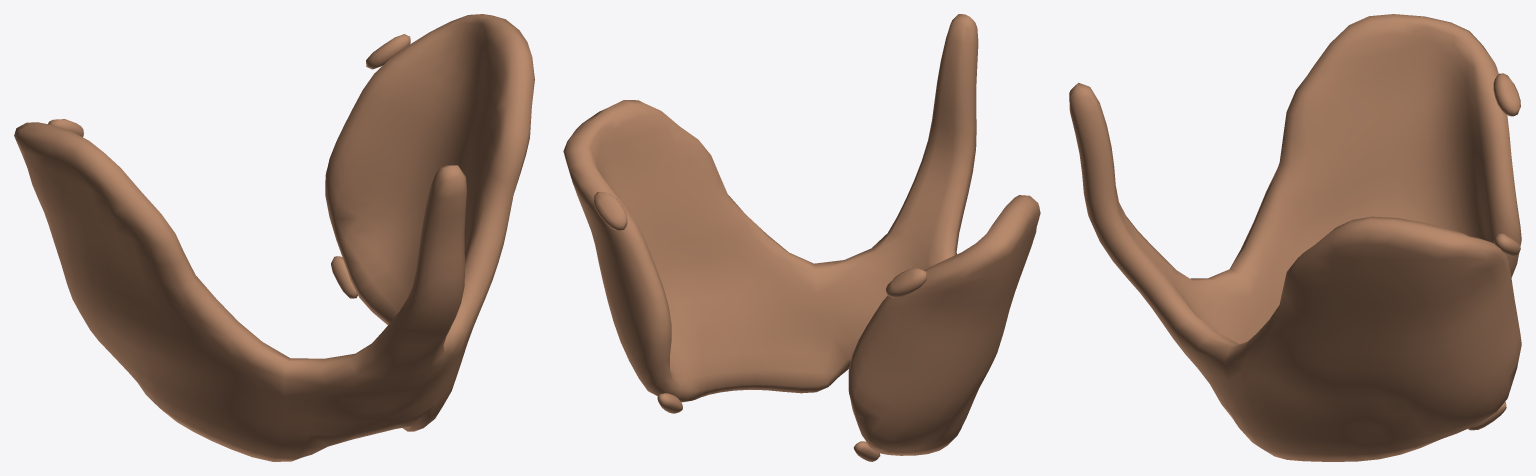
The model's file is thyroid.glb.
The picture shows the model from 3 angles, left to right: view 1: azimuth 30°, elevation 25°; view 2: azimuth 150°, elevation 25°; view 3: azimuth 270°, elevation 25°; orthographic projection. The views are drawn at different scales.
Visible parts, largest first — view 1: thyroid, real-parathyroid-glands-superior-parathyroid-gland-left, real-parathyroid-glands-inferior-parathyroid-gland-left; view 2: thyroid, real-parathyroid-glands-superior-parathyroid-gland-left, real-parathyroid-glands-superior-parathyroid-gland-right; view 3: thyroid, real-parathyroid-glands-superior-parathyroid-gland-right.
Boxes of the visible parts, x1=… form: thyroid: x1=14, y1=14, x2=534, y2=461; real-parathyroid-glands-superior-parathyroid-gland-left: x1=366, y1=34, x2=410, y2=69; real-parathyroid-glands-inferior-parathyroid-gland-left: x1=331, y1=256, x2=357, y2=298; thyroid: x1=563, y1=14, x2=1040, y2=455; real-parathyroid-glands-superior-parathyroid-gland-left: x1=594, y1=192, x2=627, y2=230; real-parathyroid-glands-superior-parathyroid-gland-right: x1=886, y1=268, x2=926, y2=297; thyroid: x1=1069, y1=14, x2=1521, y2=461; real-parathyroid-glands-superior-parathyroid-gland-right: x1=1493, y1=73, x2=1520, y2=116.
Size of the model in its own units: 0.0486 by 0.0341 by 0.0416.
